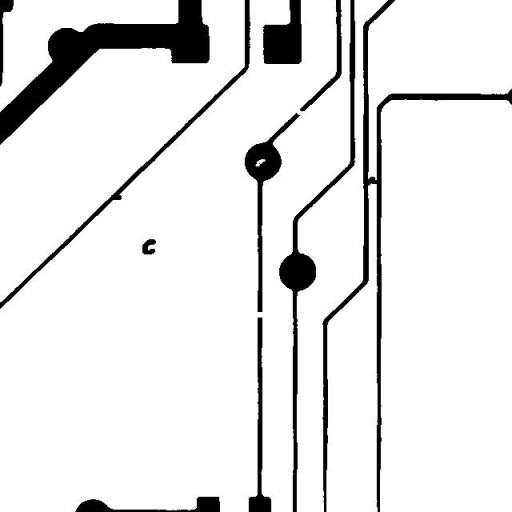copper: (134, 231, 164, 262)
open: (284, 98, 314, 122), (244, 304, 274, 325)
pin-hole: (247, 151, 273, 174)
short: (358, 169, 386, 193)
spur: (103, 187, 129, 207)
